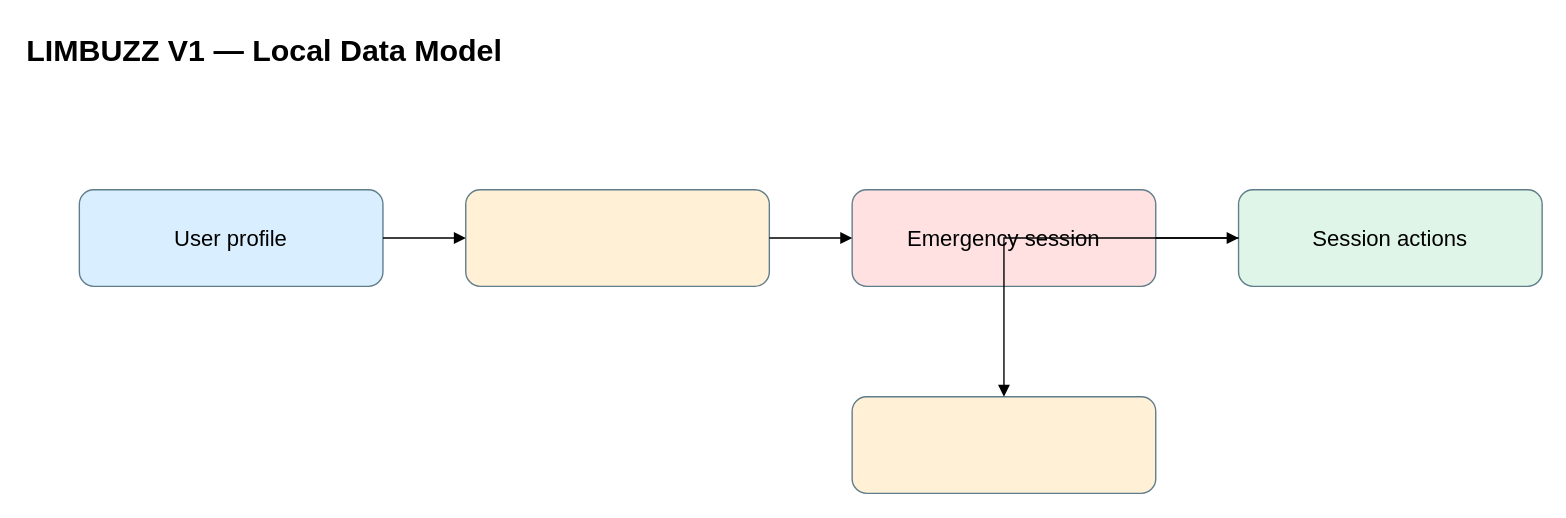
Some shapes in this 1566 by 518 pixel diagram are drawn without their labels. Each missing label, with the centre of its shape:
"Audio recording" goes at (x=1003, y=444).
"Emergency contacts" goes at (x=616, y=237).
